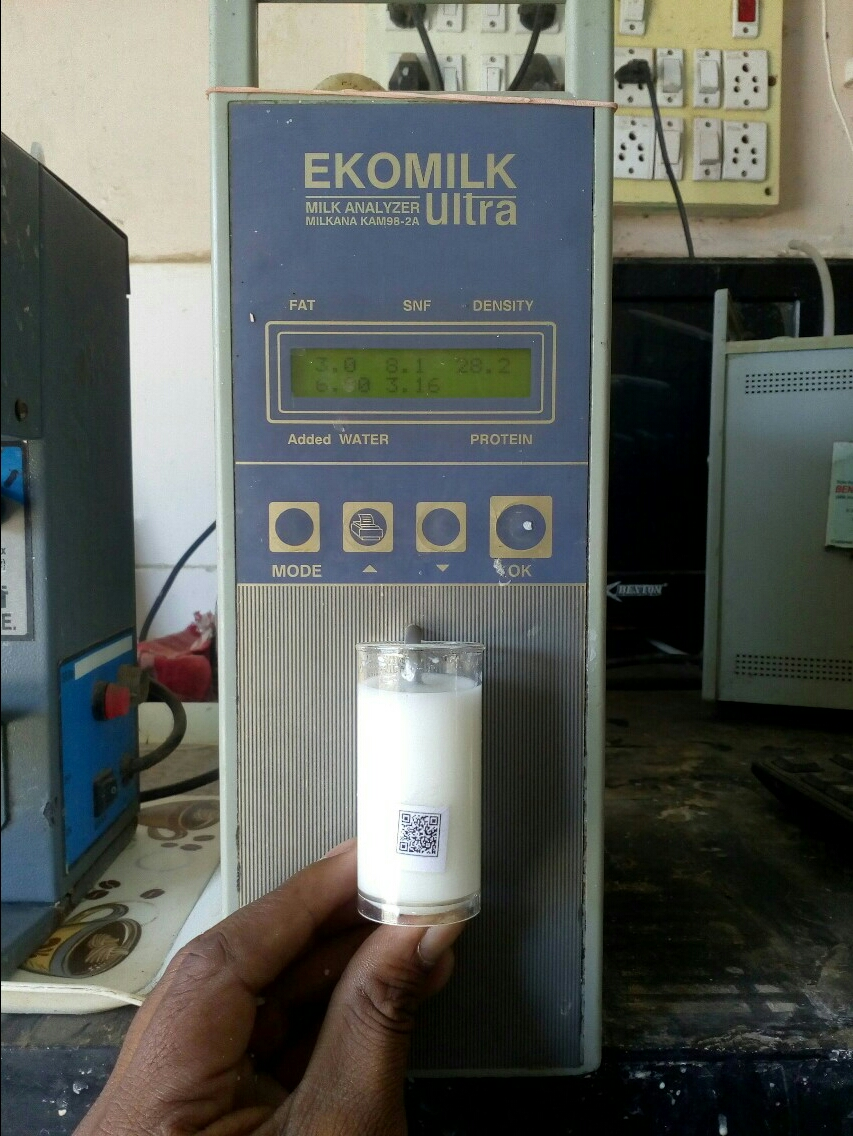lcd: (273, 335, 551, 413)
qr: (392, 809, 456, 868)
